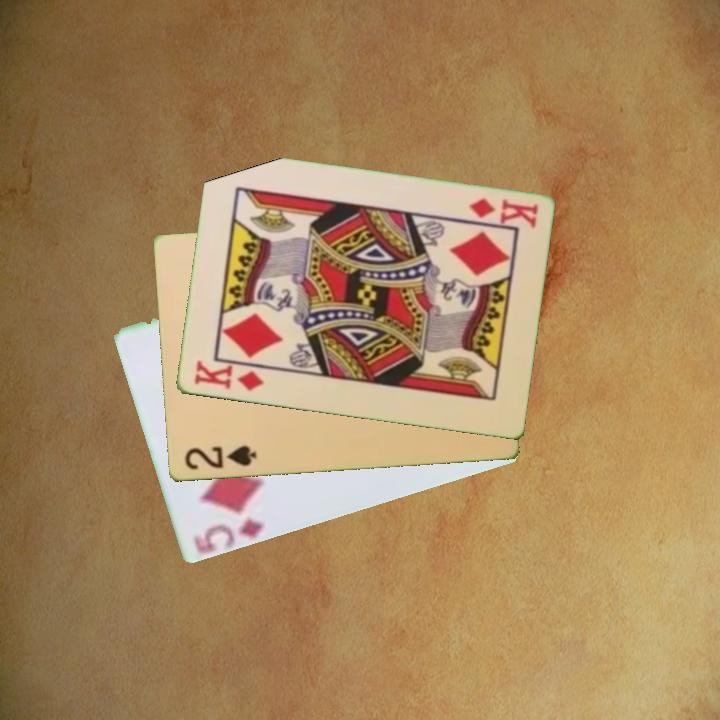2s: (181, 443, 259, 473)
5d: (192, 515, 268, 553)
Kd: (190, 357, 266, 394), (465, 194, 540, 231)
